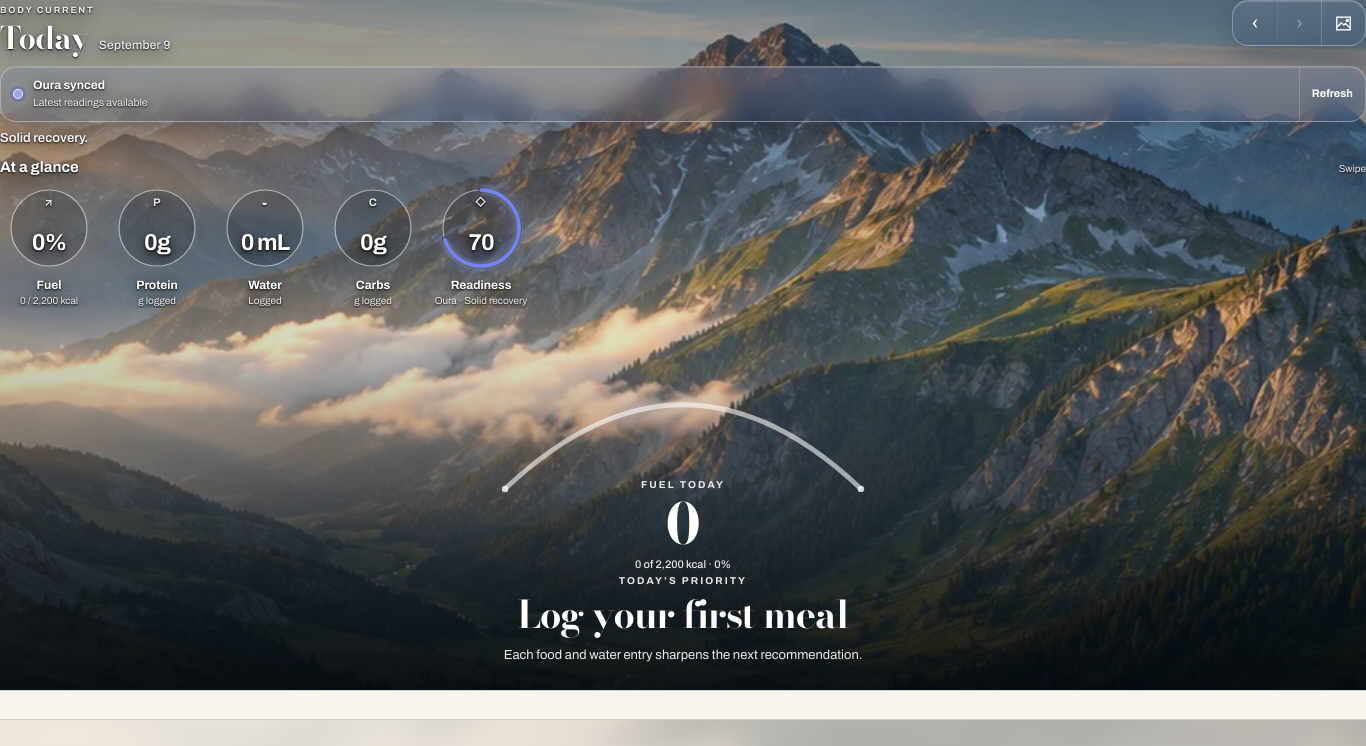
Today: Oura refresh button — firing behavior › shows a real error state on failure, and a retry click recovers cleanly (no fabricated success)
Click the button with aria-label "Refresh Oura data".
click(1332, 94)  # box 1300,72 -> 1365,116
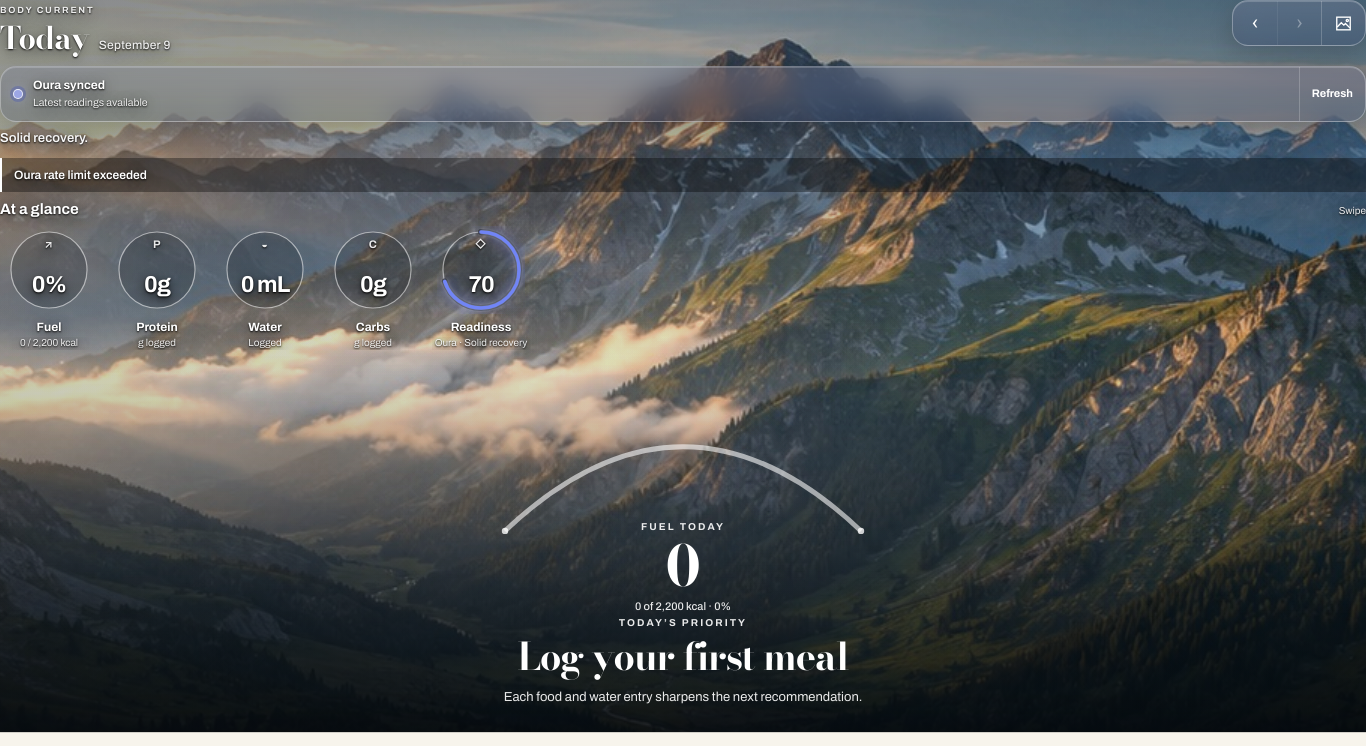
Now the text "Oura rate limit exceeded" is shown, box 0,158 -> 1365,192
Click the button with aria-label "Refresh Oura data".
click(1332, 94)  # box 1300,72 -> 1365,116
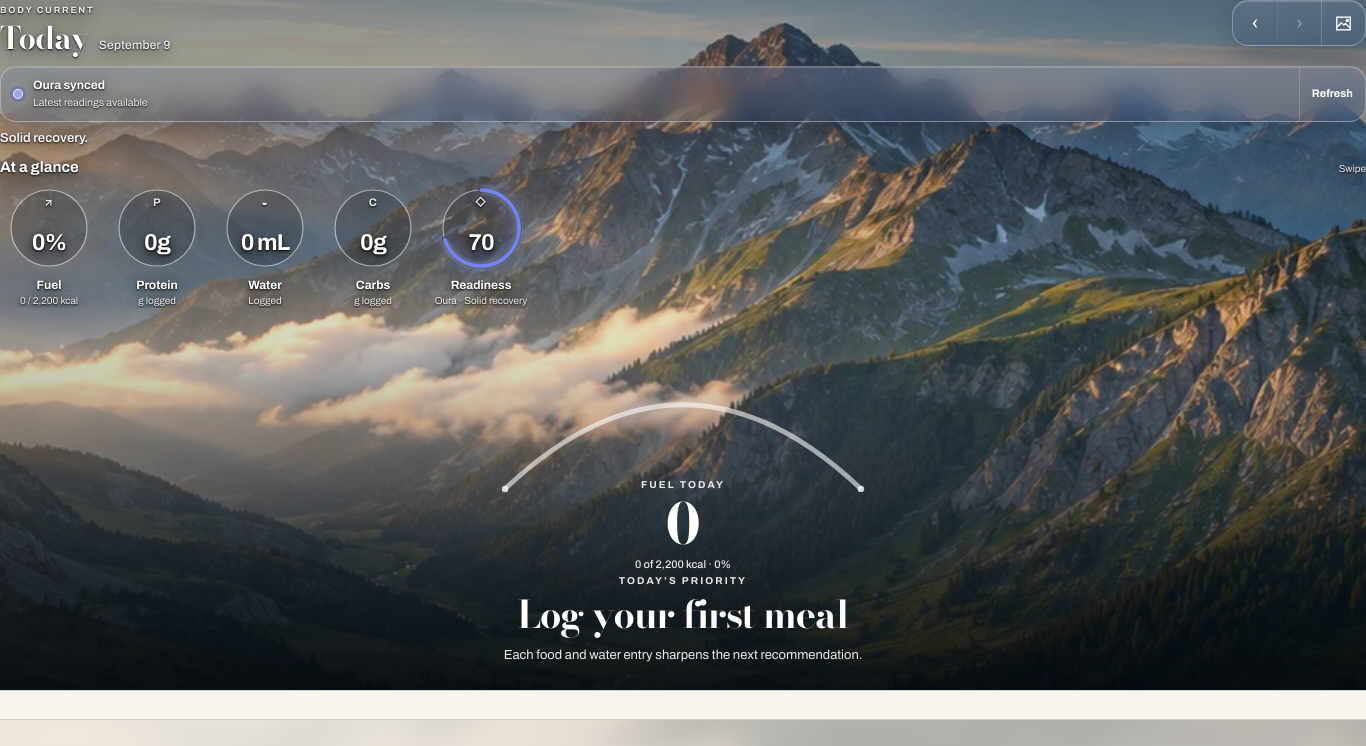
Now the text "Oura rate limit exceeded" is gone
